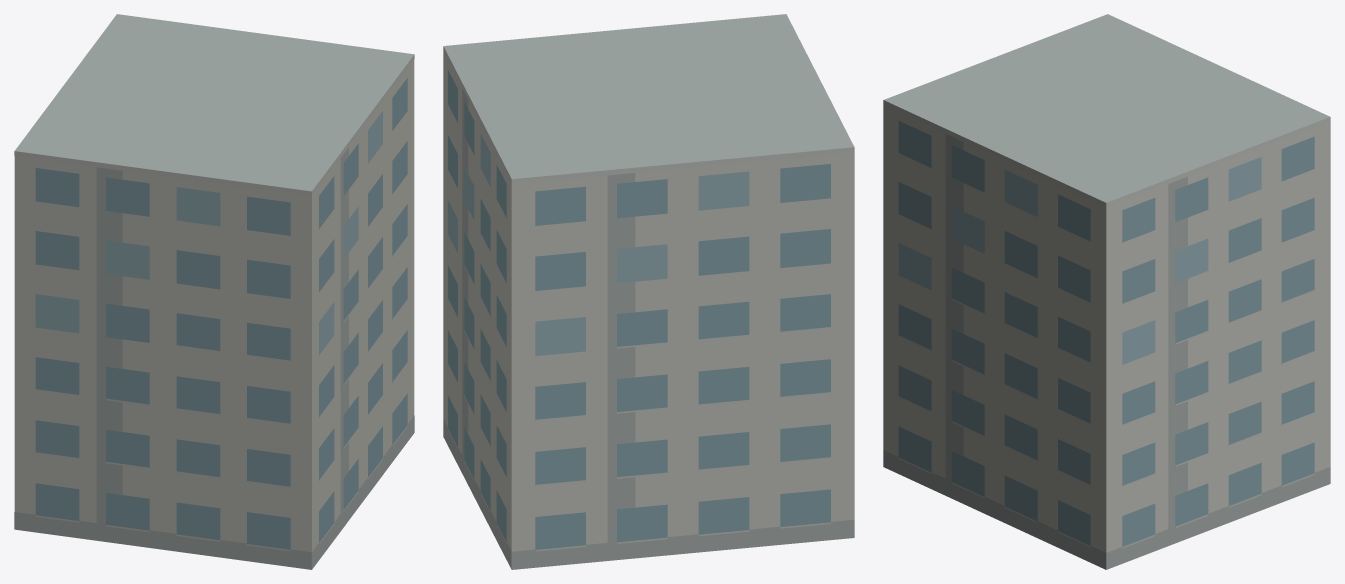
File: survey-upis-32835673.glb
3 views of the same model, side by side, from view 1: azimuth 30°, elevation 25°; view 2: azimuth 150°, elevation 25°; view 3: azimuth 270°, elevation 25° (orthographic). The views are drawn at different scales.
Visible parts, largest first — view 1: survey-upis-32835673.tmp; view 2: survey-upis-32835673.tmp; view 3: survey-upis-32835673.tmp.
Part boxes in pixels (x1=…): survey-upis-32835673.tmp: x1=14, y1=14, x2=414, y2=569; survey-upis-32835673.tmp: x1=443, y1=14, x2=854, y2=569; survey-upis-32835673.tmp: x1=883, y1=14, x2=1330, y2=569.
Size of the model in its own units: 20.09 by 18.2 by 20.1.
